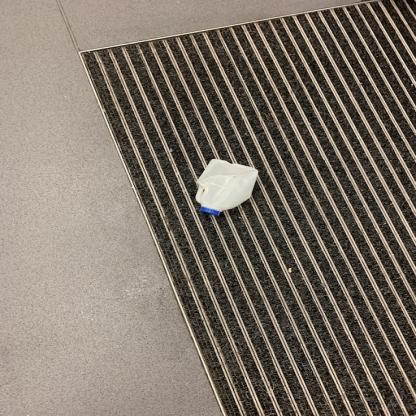trash: (195, 157, 258, 218)
